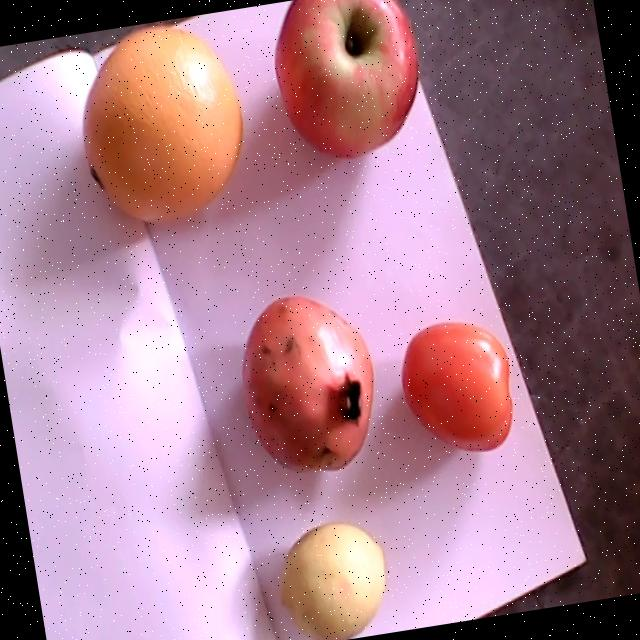apple: (275, 0, 418, 158)
lemon: (280, 524, 385, 640)
orange: (83, 24, 242, 223)
pomegranate: (241, 295, 374, 474)
tomato: (402, 322, 512, 451)
